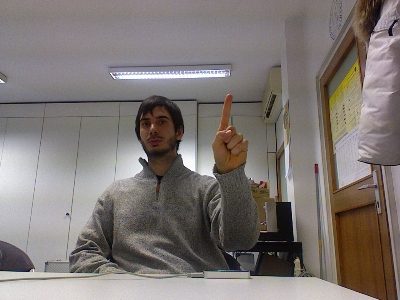食指: (210, 92, 249, 175)
